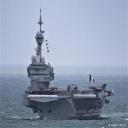Portanaves: (22, 6, 116, 121)
